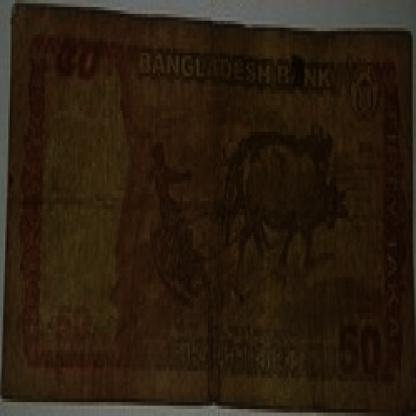Fifty taka: (43, 38, 115, 128), (330, 288, 390, 388)
